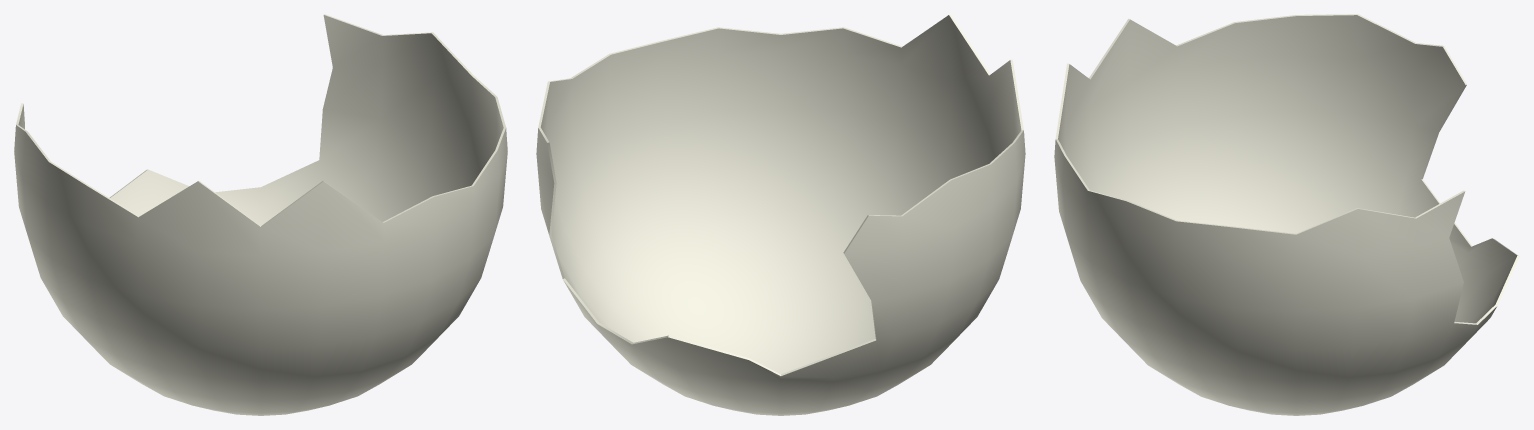
The model's file is Huevon_02.fbx.
The picture shows the model from 3 angles, left to right: view 1: azimuth 30°, elevation 25°; view 2: azimuth 150°, elevation 25°; view 3: azimuth 270°, elevation 25°; orthographic projection. The views are drawn at different scales.
Visible parts, largest first — view 1: Huevon_02; view 2: Huevon_02; view 3: Huevon_02.
Boxes of the visible parts, bbox=[...] form: Huevon_02: bbox=[14, 14, 507, 415]; Huevon_02: bbox=[536, 14, 1025, 415]; Huevon_02: bbox=[1054, 14, 1519, 415].
Bounding box in the file's own units: 16.21 × 11.25 × 15.59.
